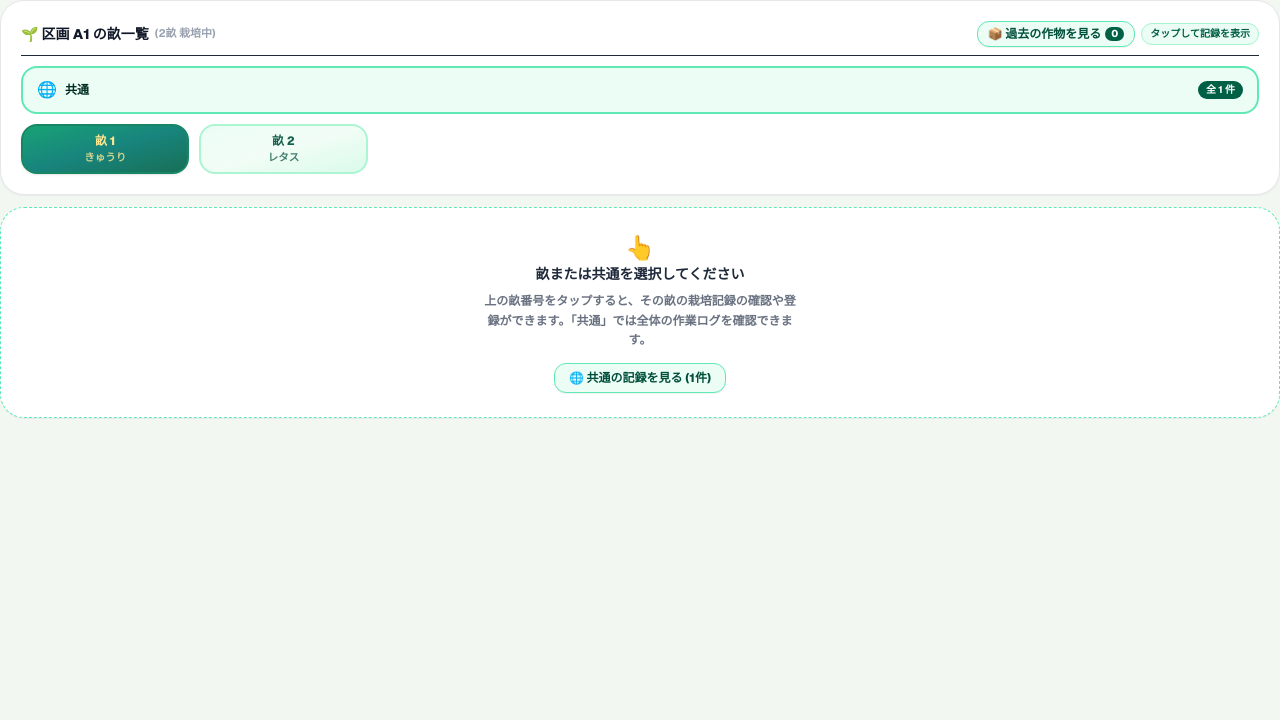
Test: StudentFarmRecordView - 登録済みタスクのベッド変更機能 & 共通タイムライン分離検証 › 特定作物(レタス)の相談・返信は共通タイムラインから除外され、畝2(レタス)にのみ表示されること
# 1. 共通を選択
Click the button "🌐 共通 全 1 件" at (1220, 90), box [21,66,1259,114]
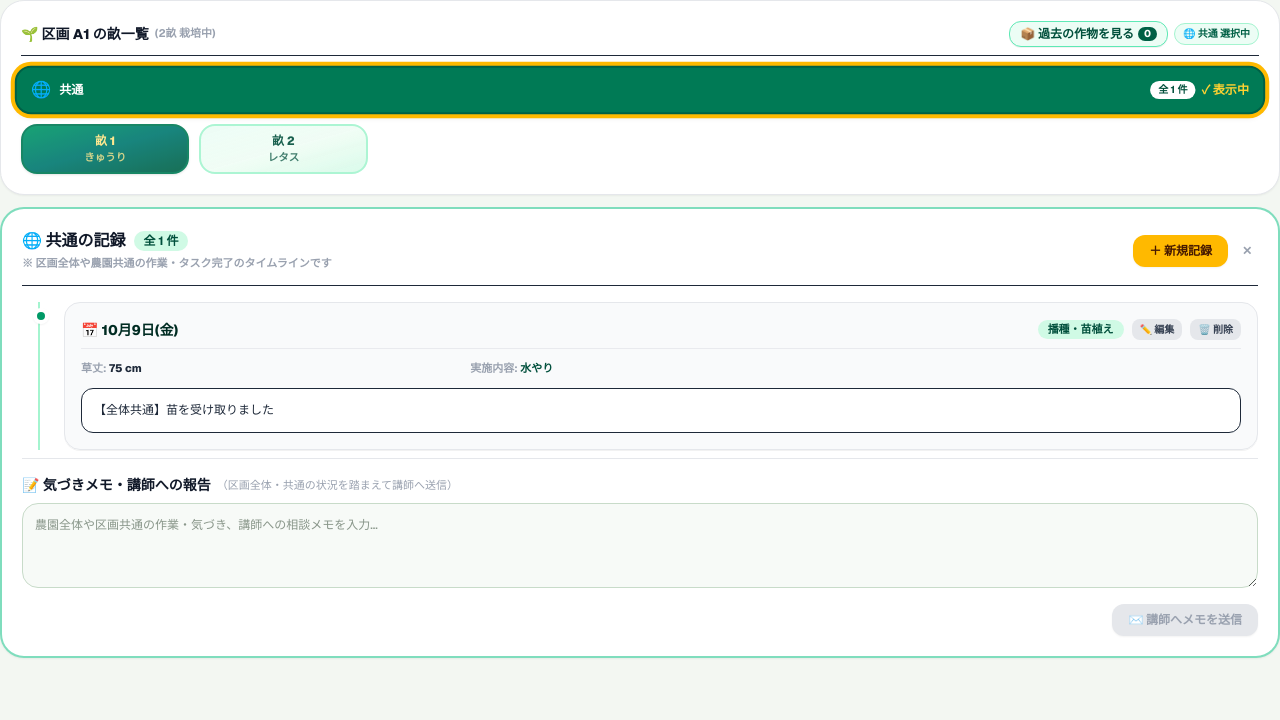
Expected: the text "レタスの苗が虫食いで育ちませんでした" is not shown
# 畝2 (レタス) を選択
Click the button "畝 2 レタス" at (283, 149), box [199,124,368,174]
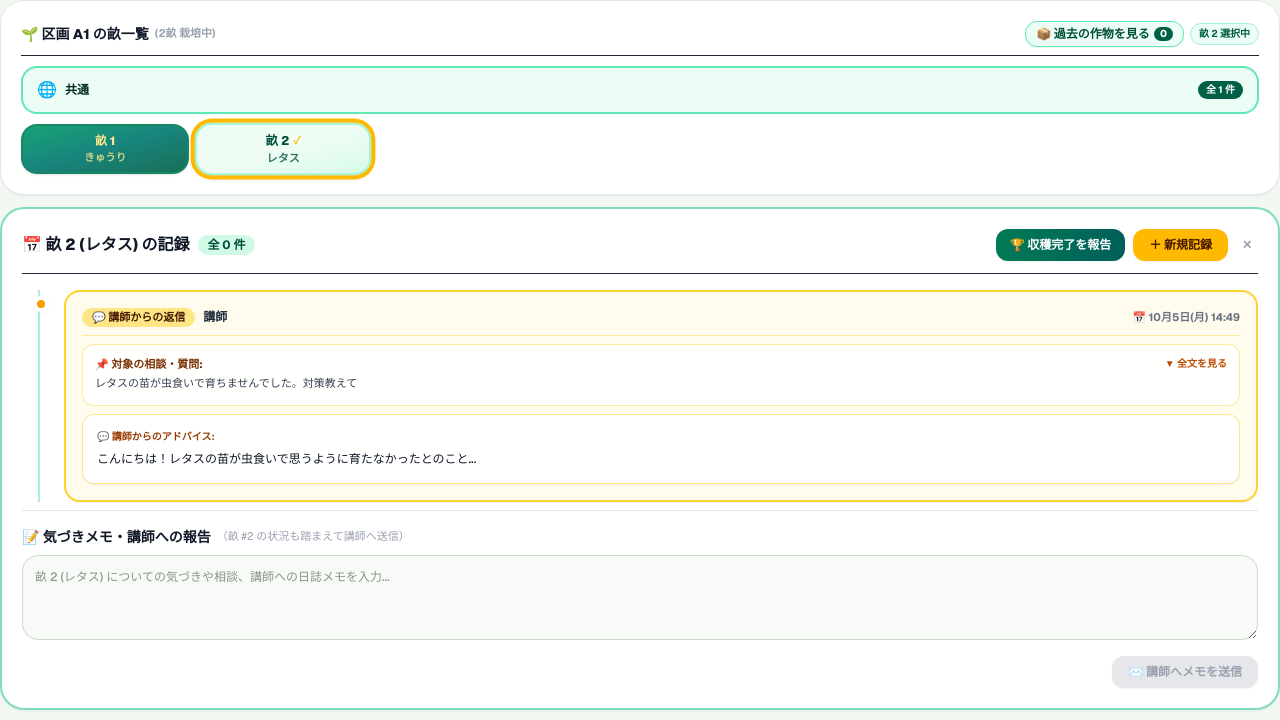
Expected: the text "レタスの苗が虫食いで育ちませんでした。対策教えて" is shown, [95,376,357,390]
